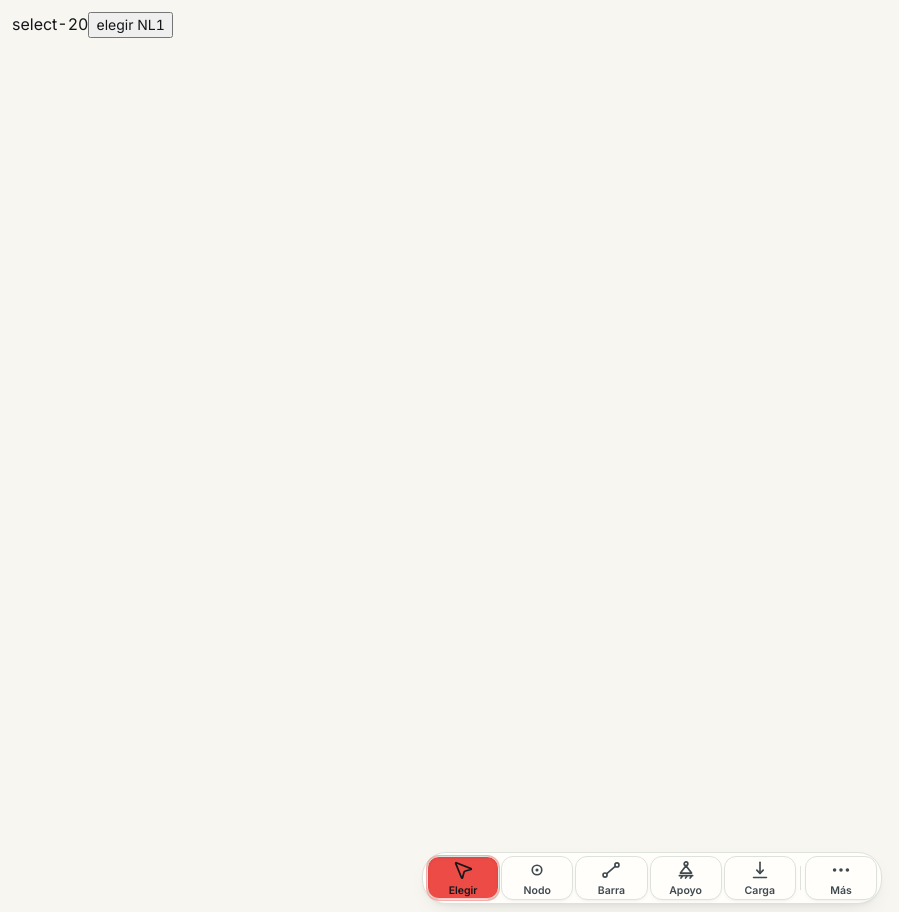
Test: dock dinámico › la cápsula aparece con la herramienta y Terminar vuelve a Seleccionar
This screenshot has width=899, height=912.
Step 1. Click the button "Nodo" → (537, 878), box [501,856,573,900]
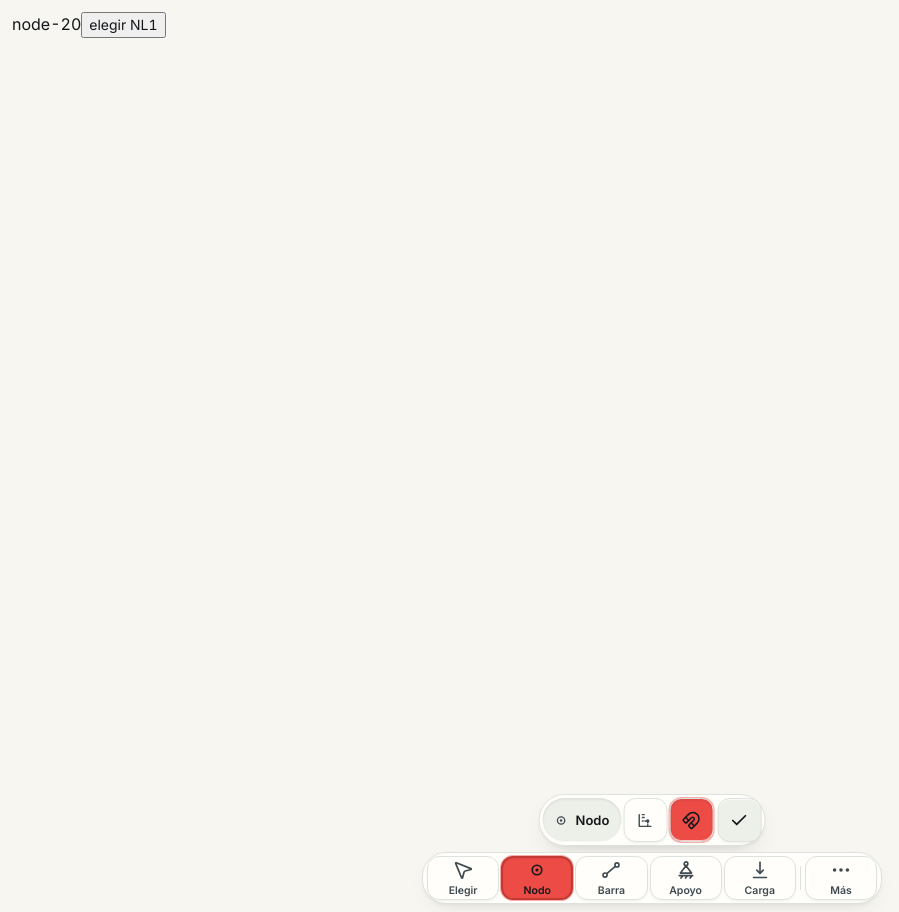
Step 2. Click the button named "Terminar" → (739, 820), box [717,798,761,842]
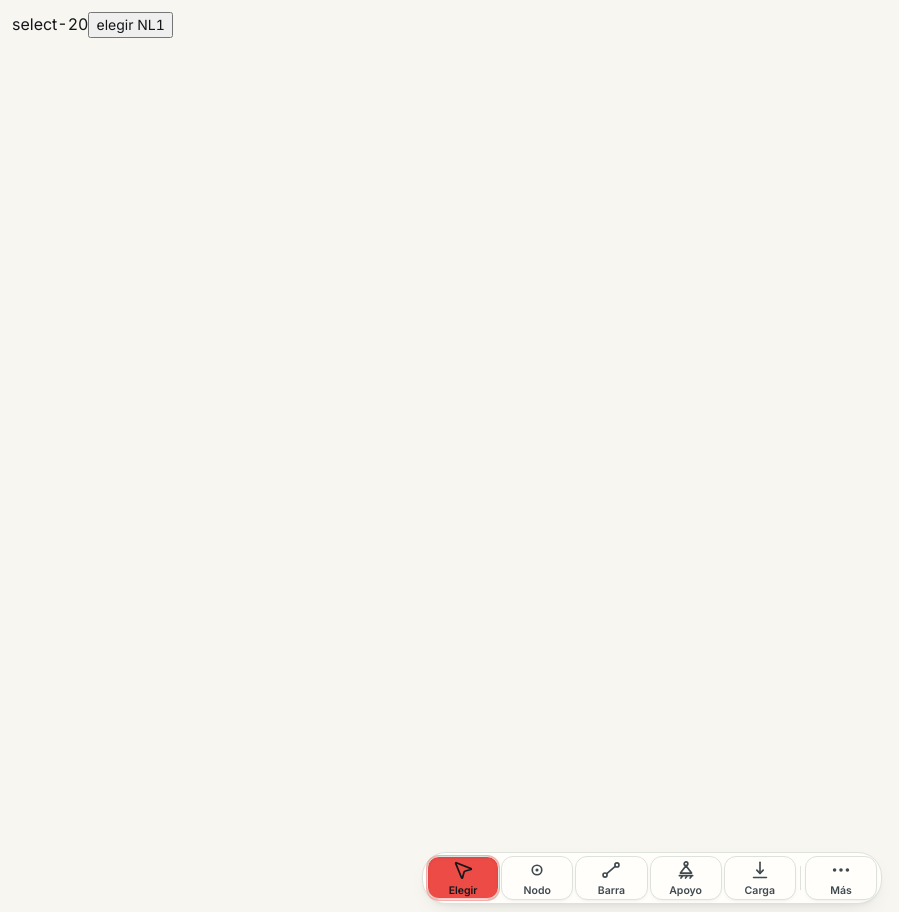
Expected: the text named "herramienta activa" reads "select", [12,14,57,34]
